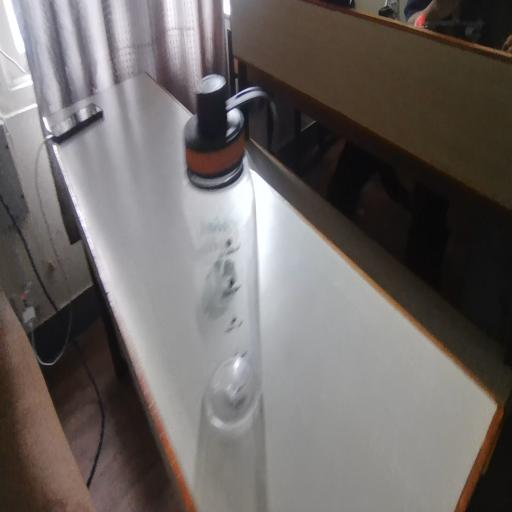Bottle: (171, 79, 282, 407)
